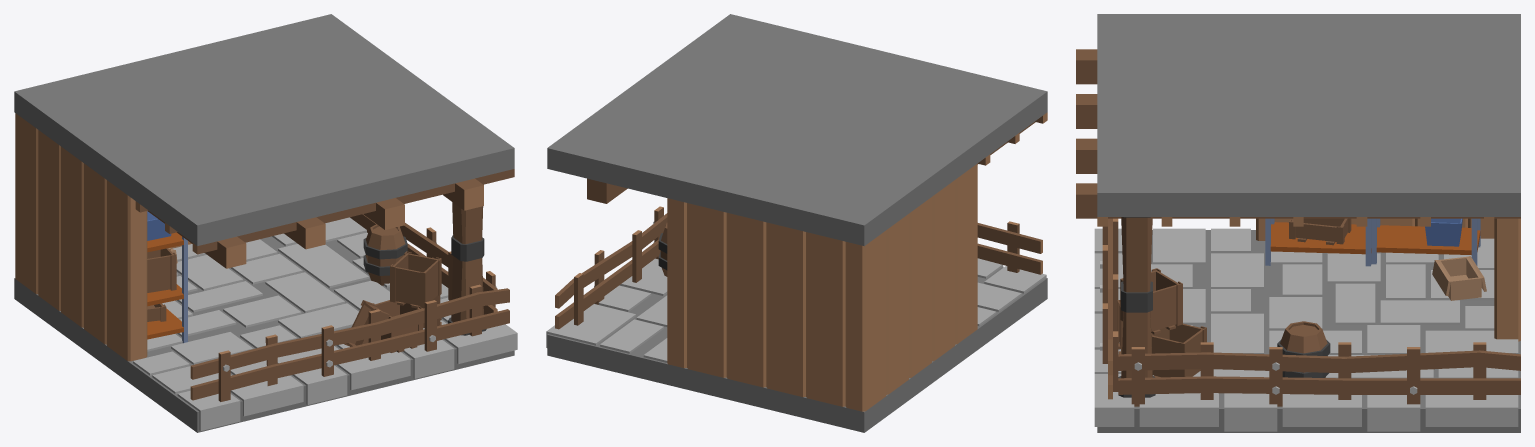
Rendered from ResourceStorage_Level_01_Corner.fbx.
3 views of the same model, side by side, from view 1: azimuth 30°, elevation 25°; view 2: azimuth 150°, elevation 25°; view 3: azimuth 270°, elevation 25° (orthographic). The views are drawn at different scales.
Parts seen in each view (by area): view 1: ResourceStorage_Level_01_Corner; view 2: ResourceStorage_Level_01_Corner; view 3: ResourceStorage_Level_01_Corner.
Part boxes in pixels (x1=…): ResourceStorage_Level_01_Corner: x1=14, y1=14, x2=517, y2=432; ResourceStorage_Level_01_Corner: x1=546, y1=14, x2=1047, y2=432; ResourceStorage_Level_01_Corner: x1=1076, y1=14, x2=1520, y2=432.
Bounding box in the file's own units: 8.05 × 5 × 8.4.
